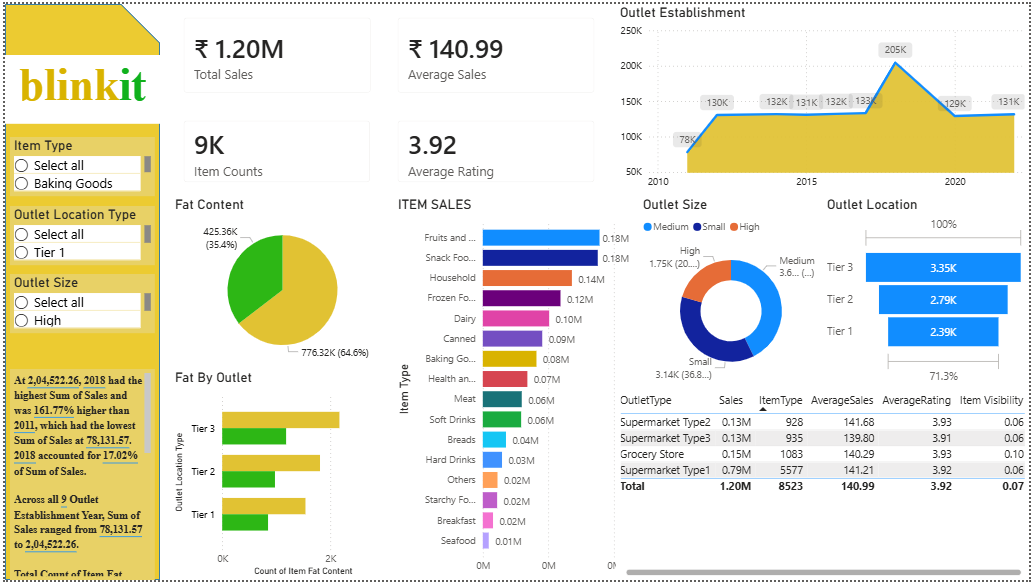

What the dashboard file says about the page in this screenshot:
{"tool":"powerbi","page":{"name":"Page 1","canvas":[1280,720],"ordinal":0},"visuals":[{"type":"shape","box":[0,0,193.8,720],"z":0},{"type":"textbox","box":[0,63.8,193.8,86.2],"z":1000},{"type":"barChart","title":"ITEM SALES","fields":{"Category":["Table1.Item Type"],"Y":["Sum(Table1.Sales)"],"Series":["Table1.Item Type"]},"box":[486.2,240,307.5,480],"z":2000},{"type":"pieChart","title":"Fat Content","fields":{"Category":["Table1.Item Fat Content"],"Y":["Sum(Table1.Sales)"]},"box":[207.5,240,278.8,216.2],"z":3000},{"type":"clusteredBarChart","title":"Fat By Outlet","fields":{"Y":["CountNonNull(Table1.Item Fat Content)"],"Category":["Table1.Outlet Location Type"],"Series":["Table1.Item Fat Content"]},"box":[207.5,456.2,278.8,263.8],"z":4000},{"type":"cardVisual","fields":{"Data":["Sum(Table1.Sales)"]},"box":[205.7,0,268.6,128.6],"z":5000},{"type":"cardVisual","fields":{"Data":["Avg(Table1.Sales)"]},"box":[473.8,0,280,128.8],"z":6000},{"type":"cardVisual","fields":{"Data":["Avg(Table1.Rating)"]},"box":[474.3,128.6,280,111.4],"z":7000},{"type":"cardVisual","fields":{"Data":["CountNonNull(Table1.Item Identifier)"]},"box":[206.2,128.8,267.5,111.2],"z":8000},{"type":"lineChart","title":" Outlet Establishment","fields":{"Category":["Table1.Outlet Establishment Year"],"Y":["Sum(Table1.Sales)"]},"box":[764.3,0,515.7,240],"z":9000},{"type":"funnel","title":"Outlet Location","fields":{"Category":["Table1.Outlet Location Type"],"Y":["CountNonNull(Table1.Outlet Location Type)"]},"box":[1022.9,240,257.1,240],"z":10000},{"type":"donutChart","title":"Outlet Size","fields":{"Category":["Table1.Outlet Size"],"Y":["CountNonNull(Table1.Outlet Size)"]},"box":[792.9,240,230,240],"z":11000},{"type":"tableEx","fields":{"Values":["Table1.Outlet Type","Sum(Table1.Sales)","CountNonNull(Table1.Item Type)","Avg(Table1.Sales)","Avg(Table1.Rating)","Avg(Table1.Item Visibility)"]},"box":[763.8,480,516.2,240],"z":12000},{"type":"listSlicer","fields":{"Values":["Table1.Item Type"]},"box":[6.2,166.2,181.2,73.8],"z":12001},{"type":"listSlicer","fields":{"Values":["Table1.Outlet Location Type"]},"box":[6.2,252.5,181.2,73.8],"z":12002},{"type":"listSlicer","fields":{"Values":["Table1.Outlet Size"]},"box":[6.2,337.5,181.2,73.8],"z":12003},{"type":"textbox","box":[6.2,456.2,181.2,263.8],"z":12004}]}

Visuals, with their boxes in screenshot pixels (x1, y1, x2, y2), scaled from the page's 1280x720 canvas onto the 1031x582 screenshot:
shape: left=0, top=0, right=156, bottom=581
textbox: left=0, top=52, right=156, bottom=121
"ITEM SALES" barChart: left=392, top=194, right=639, bottom=581
"Fat Content" pieChart: left=167, top=194, right=392, bottom=369
"Fat By Outlet" clusteredBarChart: left=167, top=369, right=392, bottom=581
cardVisual - Sum(Table1.Sales): left=166, top=0, right=382, bottom=104
cardVisual - Avg(Table1.Sales): left=382, top=0, right=607, bottom=104
cardVisual - Avg(Table1.Rating): left=382, top=104, right=608, bottom=194
cardVisual - CountNonNull(Table1.Item Identifier): left=166, top=104, right=382, bottom=194
" Outlet Establishment" lineChart: left=616, top=0, right=1030, bottom=194
"Outlet Location" funnel: left=824, top=194, right=1030, bottom=388
"Outlet Size" donutChart: left=639, top=194, right=824, bottom=388
tableEx - Table1.Outlet Type x Sum(Table1.Sales): left=615, top=388, right=1030, bottom=581
listSlicer - Table1.Item Type: left=5, top=134, right=151, bottom=194
listSlicer - Table1.Outlet Location Type: left=5, top=204, right=151, bottom=264
listSlicer - Table1.Outlet Size: left=5, top=273, right=151, bottom=332
textbox: left=5, top=369, right=151, bottom=581
